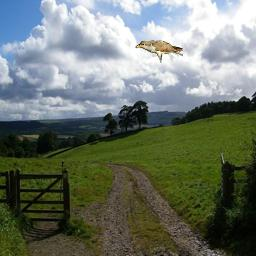Cuckoo: (135, 40, 183, 63)
